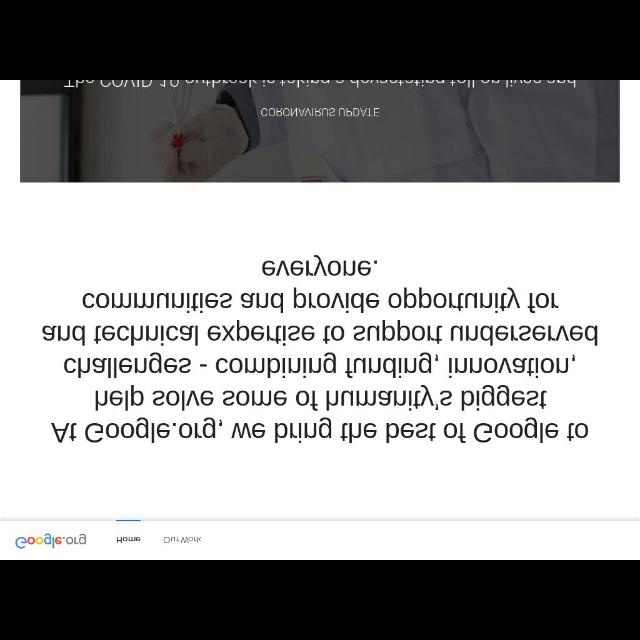backgroundimage: (19, 81, 620, 182)
image: (15, 532, 86, 550)
text: (41, 256, 600, 444), (65, 81, 578, 89), (260, 108, 380, 116), (165, 536, 201, 544), (116, 534, 140, 544)
